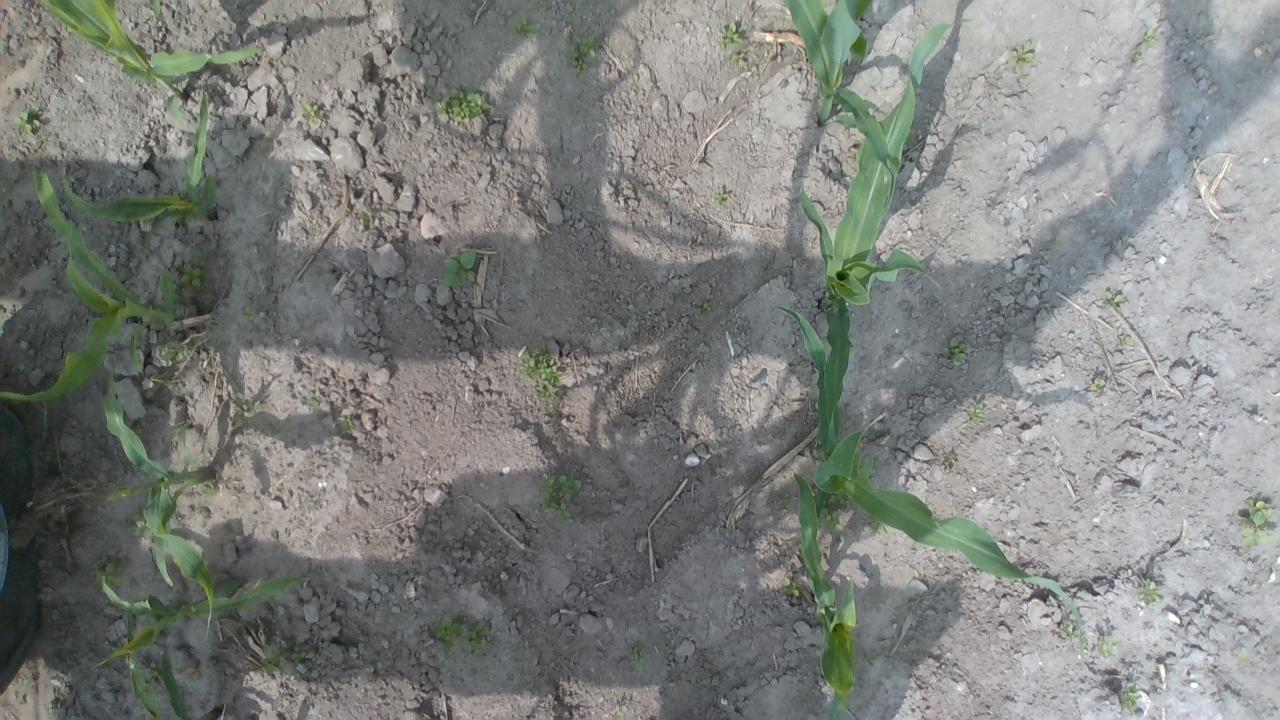Maize: (770, 304, 1090, 670), (794, 13, 969, 464), (0, 167, 182, 404), (96, 346, 217, 640), (93, 571, 329, 720), (35, 0, 266, 128), (62, 83, 218, 259), (776, 0, 899, 208), (792, 470, 858, 720), (158, 649, 225, 720), (146, 0, 174, 26)
Weeds: (518, 342, 564, 408), (171, 250, 215, 316), (432, 616, 493, 658), (538, 472, 582, 522), (1237, 497, 1277, 549), (809, 484, 848, 535), (435, 86, 489, 122), (260, 640, 306, 676), (116, 502, 154, 540), (442, 249, 479, 288), (88, 556, 125, 594), (568, 34, 598, 72), (12, 106, 43, 137), (156, 332, 188, 362), (1134, 578, 1164, 608), (1130, 29, 1158, 61), (1010, 40, 1036, 74), (1060, 620, 1089, 648), (234, 392, 260, 422), (941, 337, 968, 364), (717, 22, 743, 50), (1117, 682, 1141, 712), (140, 660, 165, 685), (626, 643, 648, 670), (511, 16, 538, 38), (863, 645, 891, 666), (966, 402, 986, 428), (1096, 636, 1118, 658), (867, 514, 891, 534), (150, 371, 175, 390), (302, 102, 321, 124), (782, 577, 801, 597), (1104, 291, 1123, 311), (693, 299, 712, 317), (336, 416, 354, 432), (1088, 377, 1106, 392), (202, 481, 220, 496), (307, 391, 321, 410), (729, 52, 746, 67), (713, 188, 728, 205), (243, 306, 256, 322), (779, 494, 793, 507), (1117, 334, 1131, 346), (759, 262, 774, 272), (1048, 236, 1062, 246), (944, 454, 956, 465), (16, 678, 28, 688), (1238, 655, 1248, 665), (894, 660, 902, 670)
